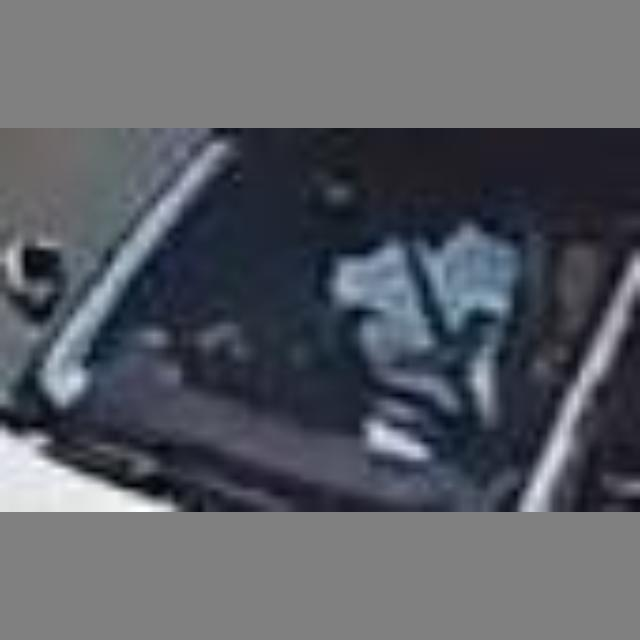pakai: (301, 173, 512, 429)
